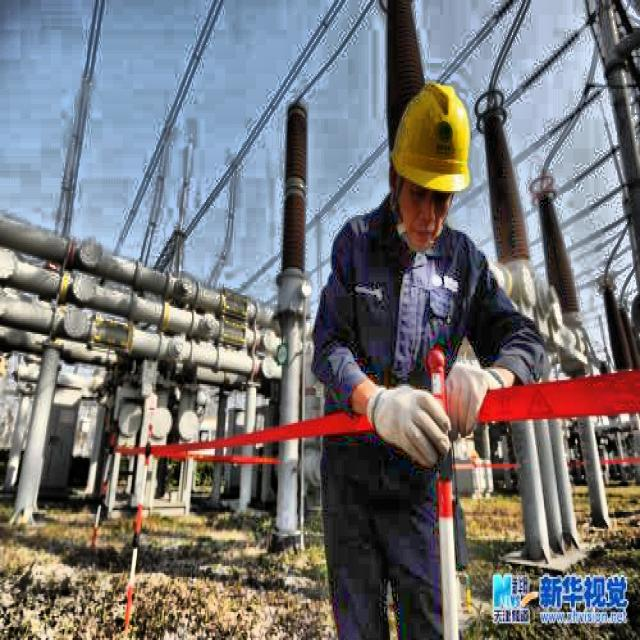helmet: (388, 70, 485, 256)
